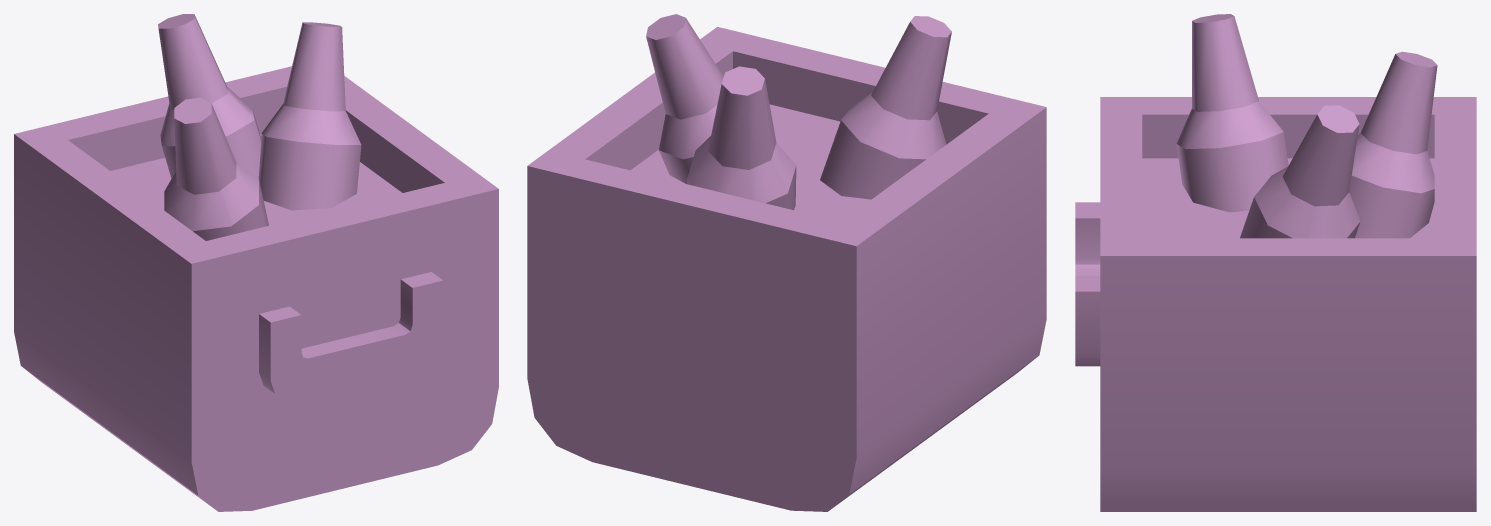
File: refrigerator.glb
3 renders of one model, left to right at view 1: azimuth 30°, elevation 25°; view 2: azimuth 150°, elevation 25°; view 3: azimuth 270°, elevation 25°, orthographic. The views are drawn at different scales.
Parts seen in each view (by area): view 1: refrigerator; view 2: refrigerator; view 3: refrigerator.
Part boxes in pixels (x1,y1,x2,y2): refrigerator: (14, 14, 498, 511); refrigerator: (527, 14, 1046, 511); refrigerator: (1075, 14, 1476, 511).
Bounding box in the file's own units: 0.9 × 1.03 × 0.9596.
